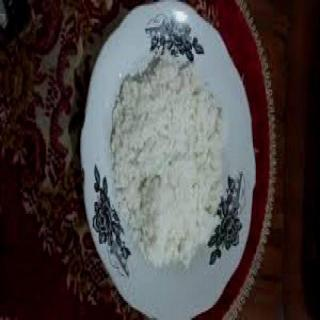Nasi: (109, 47, 225, 271)
